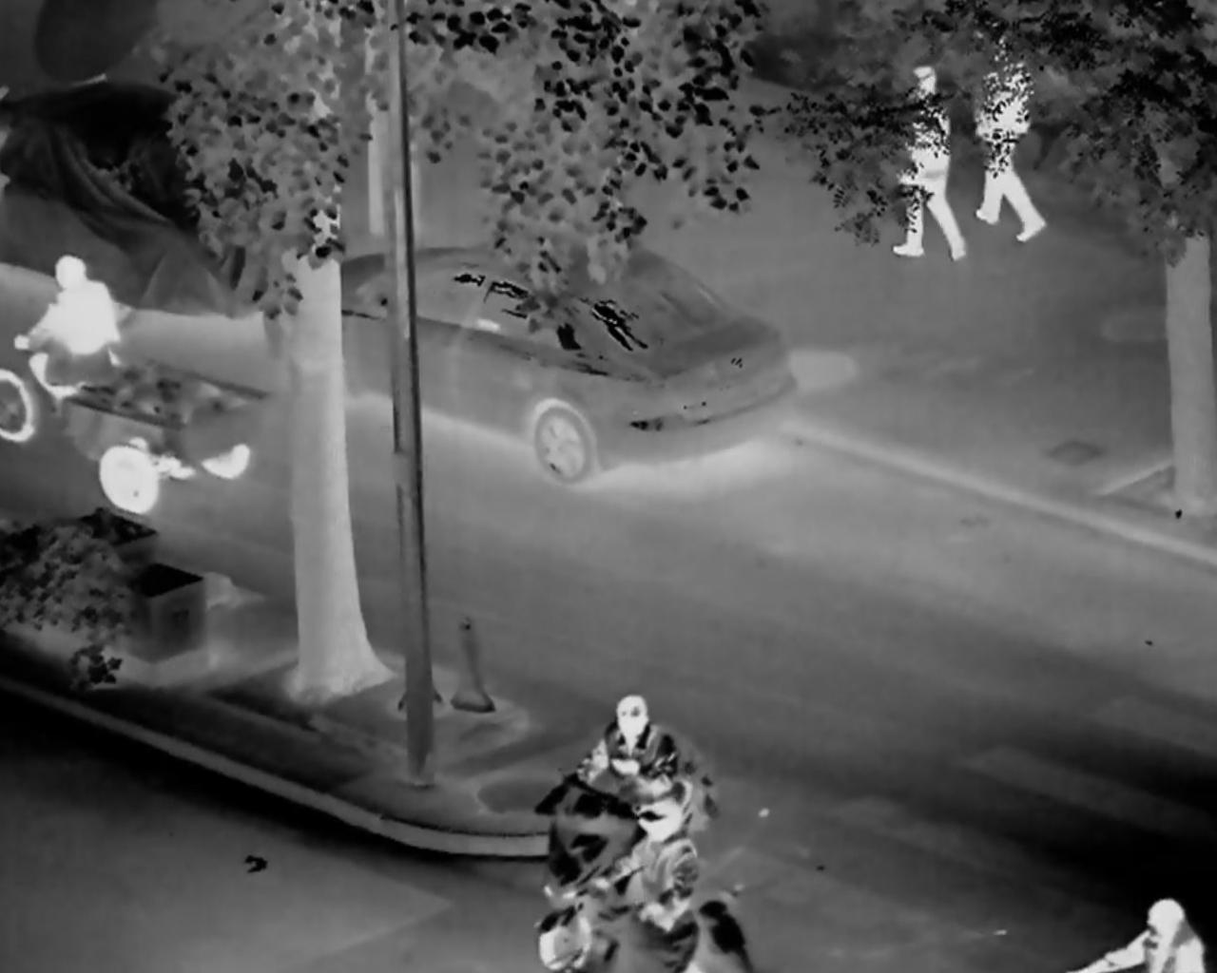person: (843, 62, 976, 287), (17, 242, 132, 474), (961, 35, 1043, 245), (581, 801, 708, 931), (562, 686, 690, 797), (1075, 895, 1211, 973)
